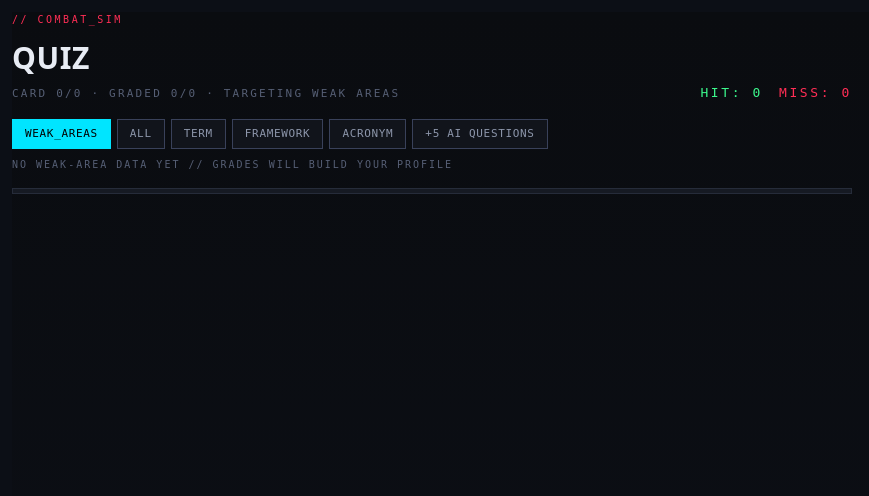
Test case: a stale deck response does not overwrite a newer source selection
Click the button "term" at x=198, y=134, box [171,118,226,149]
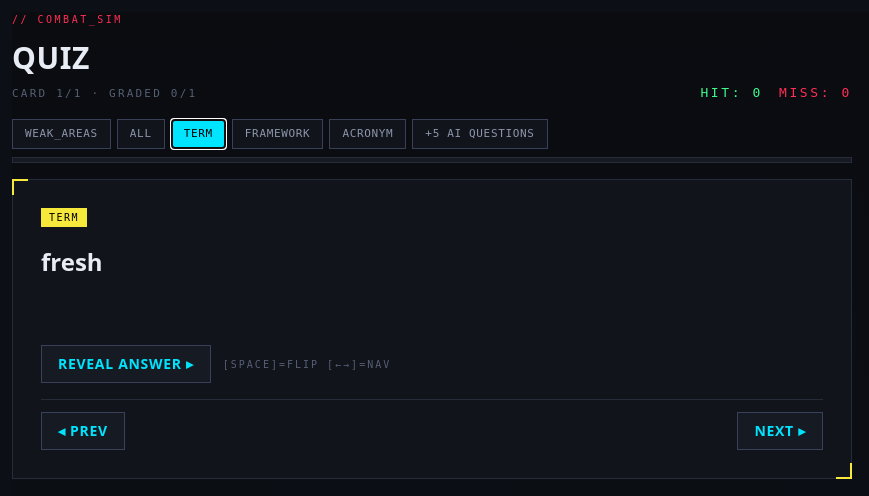
Result: the text "fresh" is shown at [41,245,103,278]
